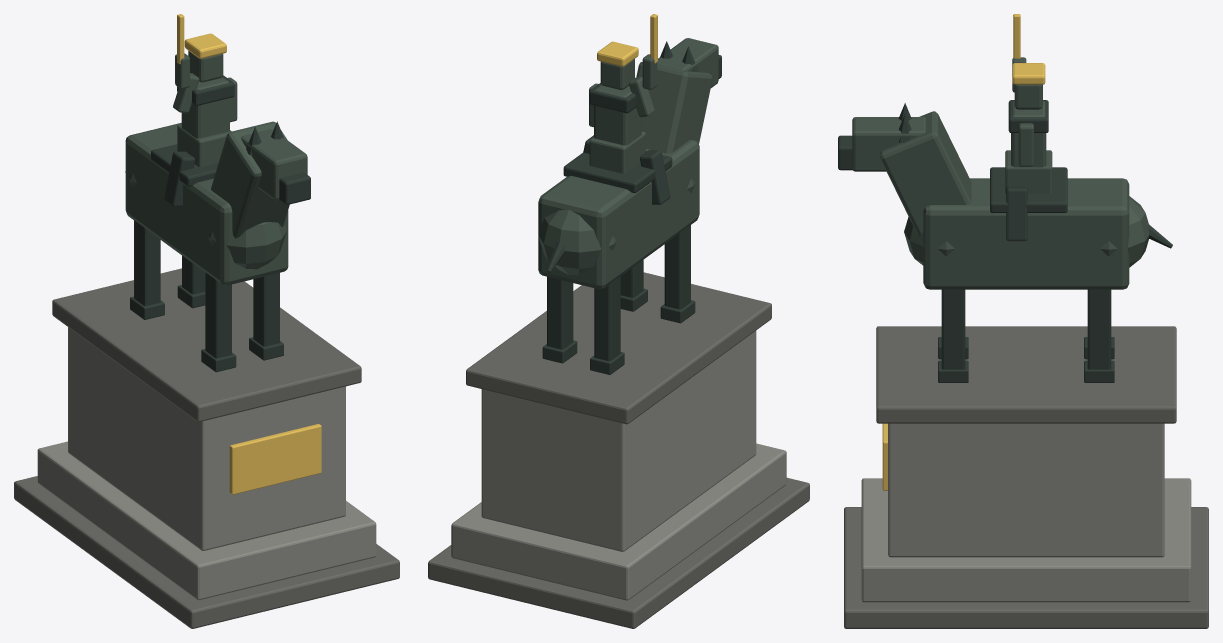
File: SM_Reiterstandbild.glb
3 views of the same model, side by side, from view 1: azimuth 30°, elevation 25°; view 2: azimuth 150°, elevation 25°; view 3: azimuth 270°, elevation 25° (orthographic). The views are drawn at different scales.
Parts seen in each view (by area): view 1: SM_Reiterstandbild; view 2: SM_Reiterstandbild; view 3: SM_Reiterstandbild.
Part boxes in pixels (x1,y1,x2,y2): SM_Reiterstandbild: (14,14,399,628); SM_Reiterstandbild: (428,14,809,628); SM_Reiterstandbild: (838,14,1208,628).
Size of what is drawn, in the model's own units: 2.1 by 5.13 by 3.15.
